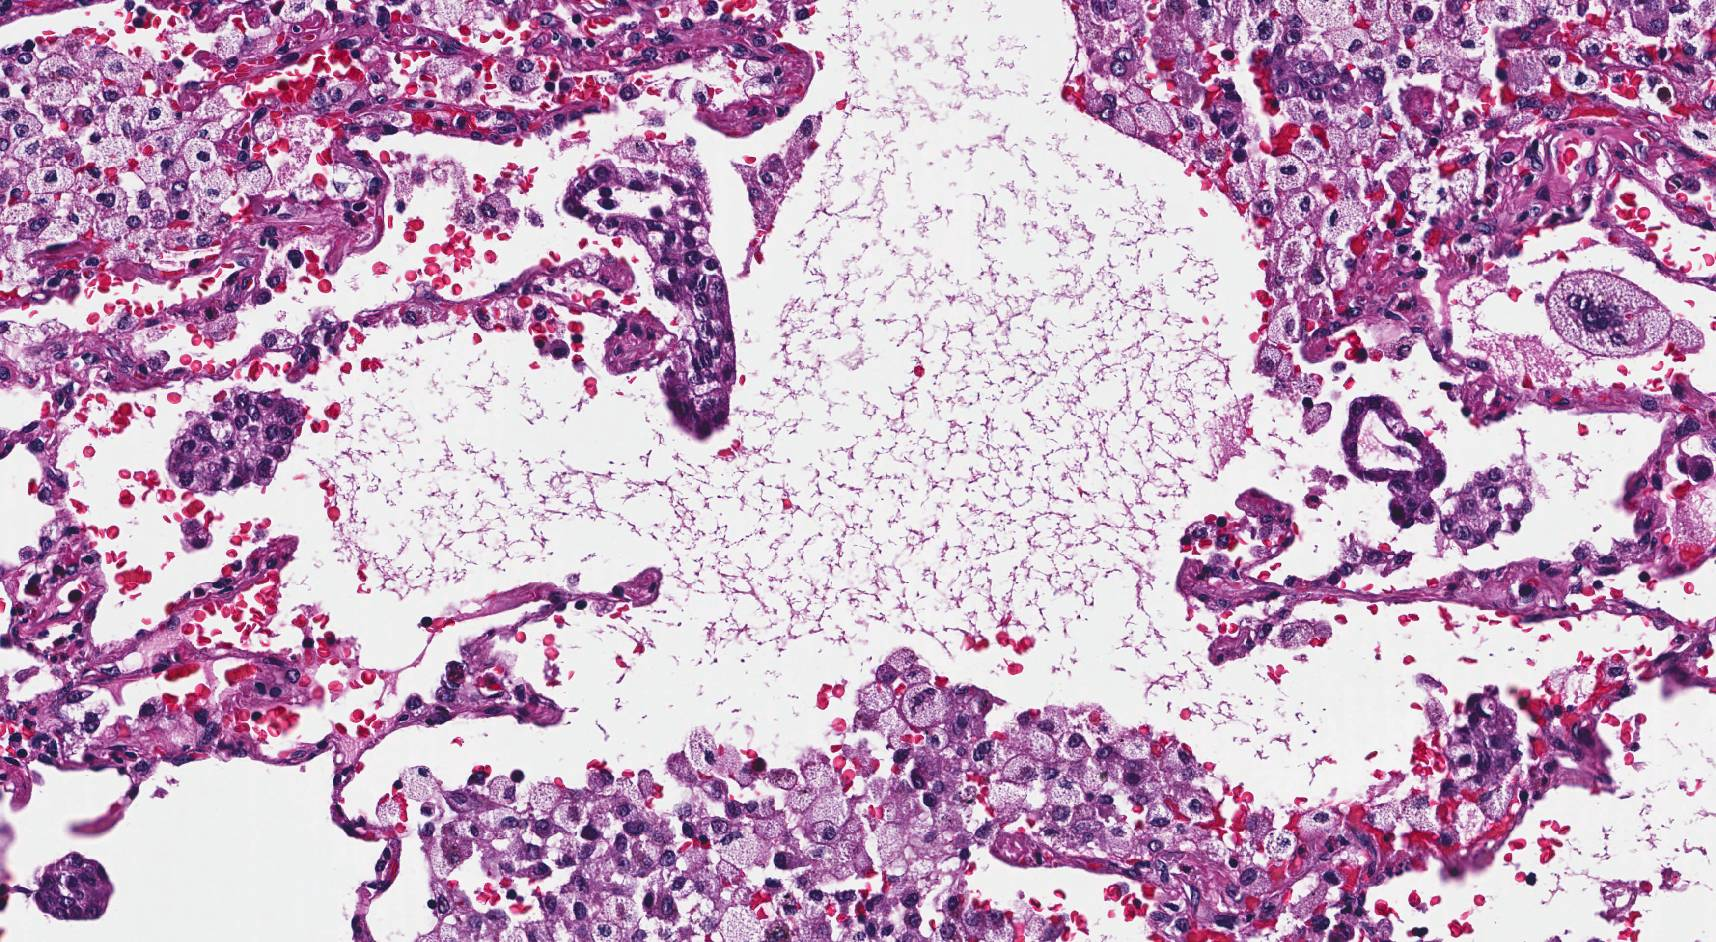stas: (562, 160, 738, 443), (164, 388, 307, 495), (1340, 393, 1447, 531), (1268, 16, 1388, 107), (35, 851, 116, 922), (1465, 691, 1522, 784)
